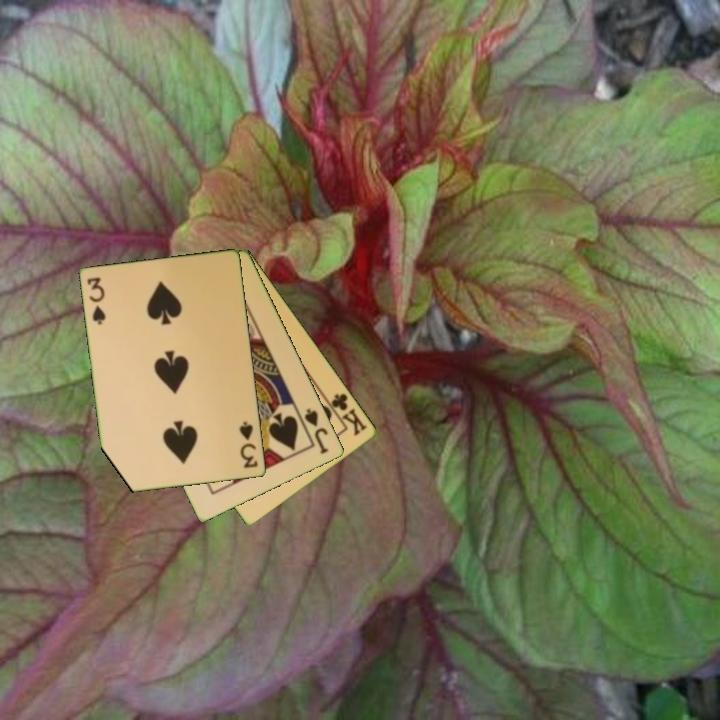3s: (84, 274, 109, 328), (236, 418, 261, 471)
Js: (301, 405, 332, 457)
Kc: (323, 390, 371, 439)
